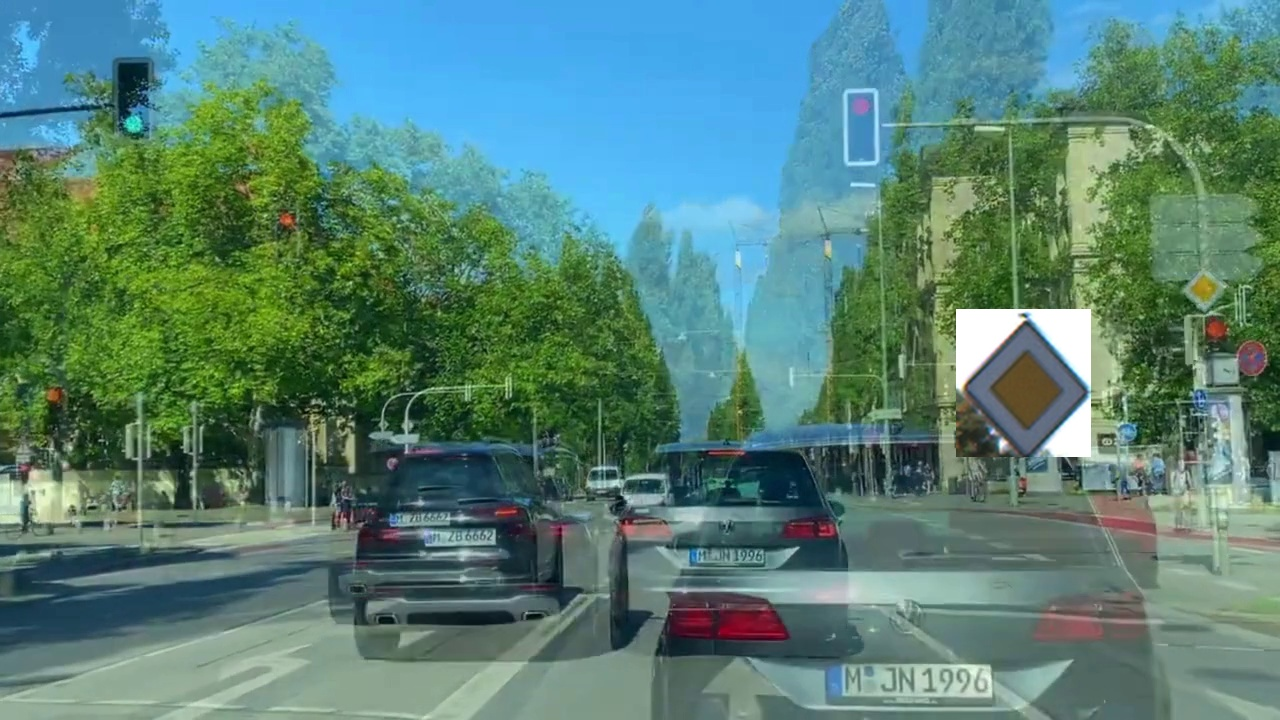Priority road: (956, 309, 1091, 457)
